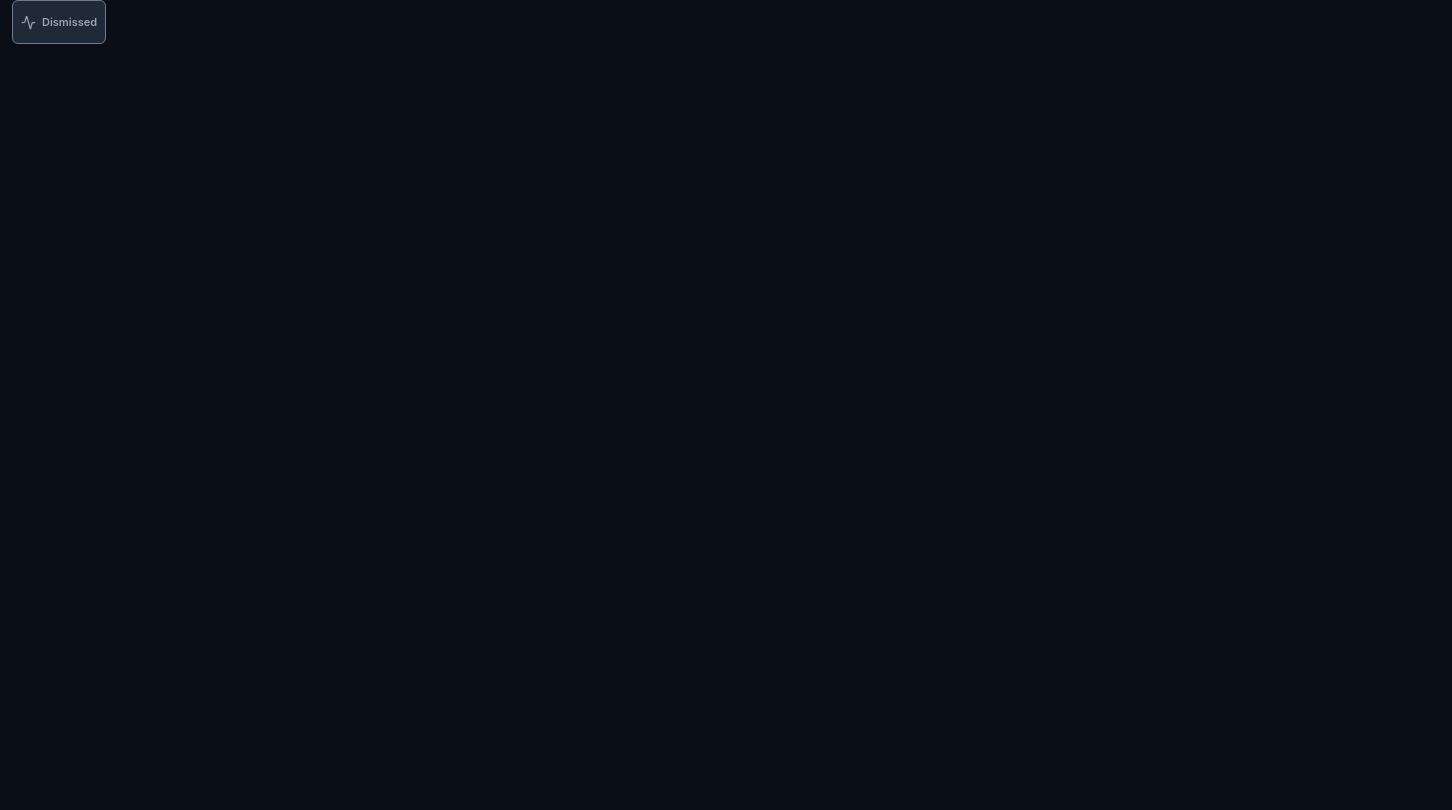
Scenario: DashboardHealth › keeps dismissal for the same session and restores changed warnings
Earlier steps of the test are not shown.
Later steps or results of the test are not shown.
Click the button with aria-label "Workspace health:" at (59, 22), box [12,0,106,44]
(page scrolled)
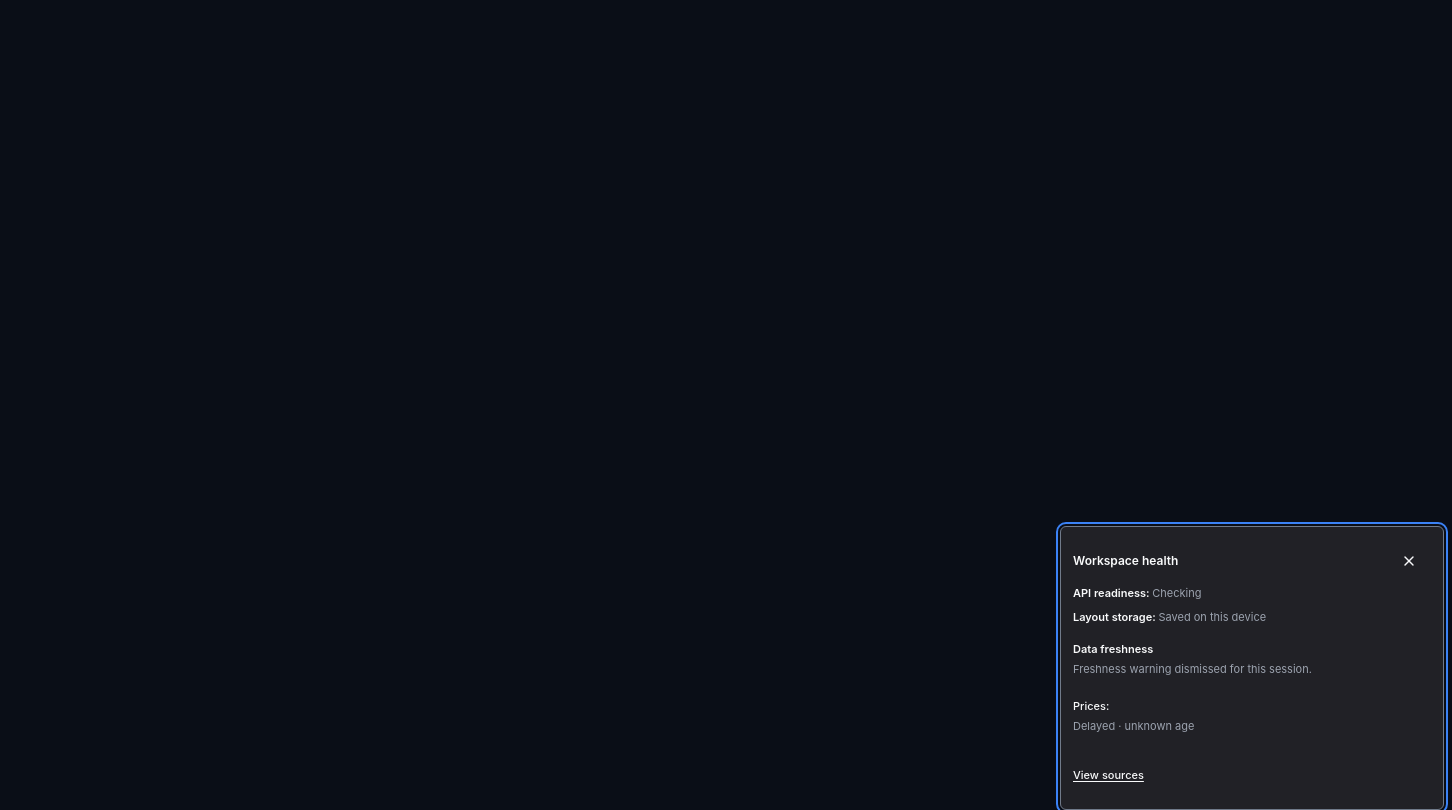
Expected: the text "Prices:" is shown, [1073,699,1109,713]
